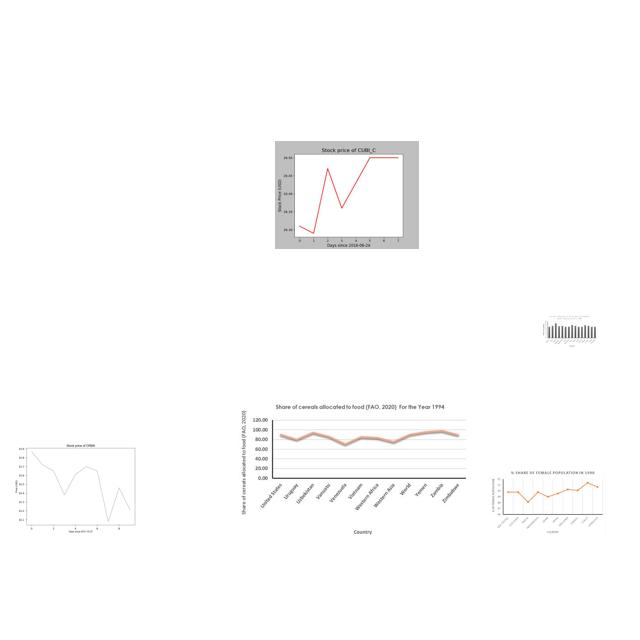Graph: (234, 401, 473, 539), (275, 141, 419, 249), (6, 436, 152, 536), (489, 468, 606, 537), (541, 315, 598, 348)
